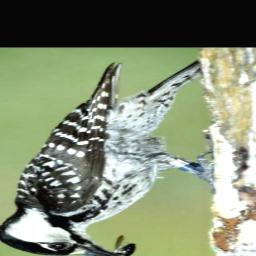Woodpecker: (0, 57, 203, 256)
